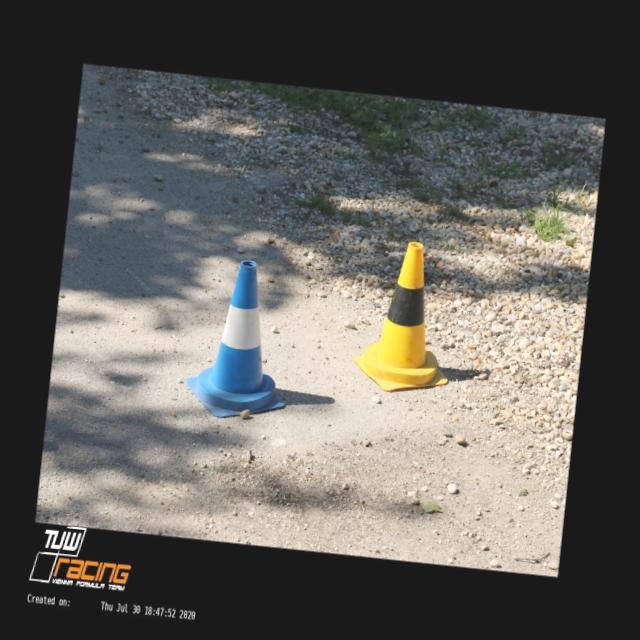blue_cone: (180, 255, 300, 424)
yellow_cone: (351, 236, 462, 398)
